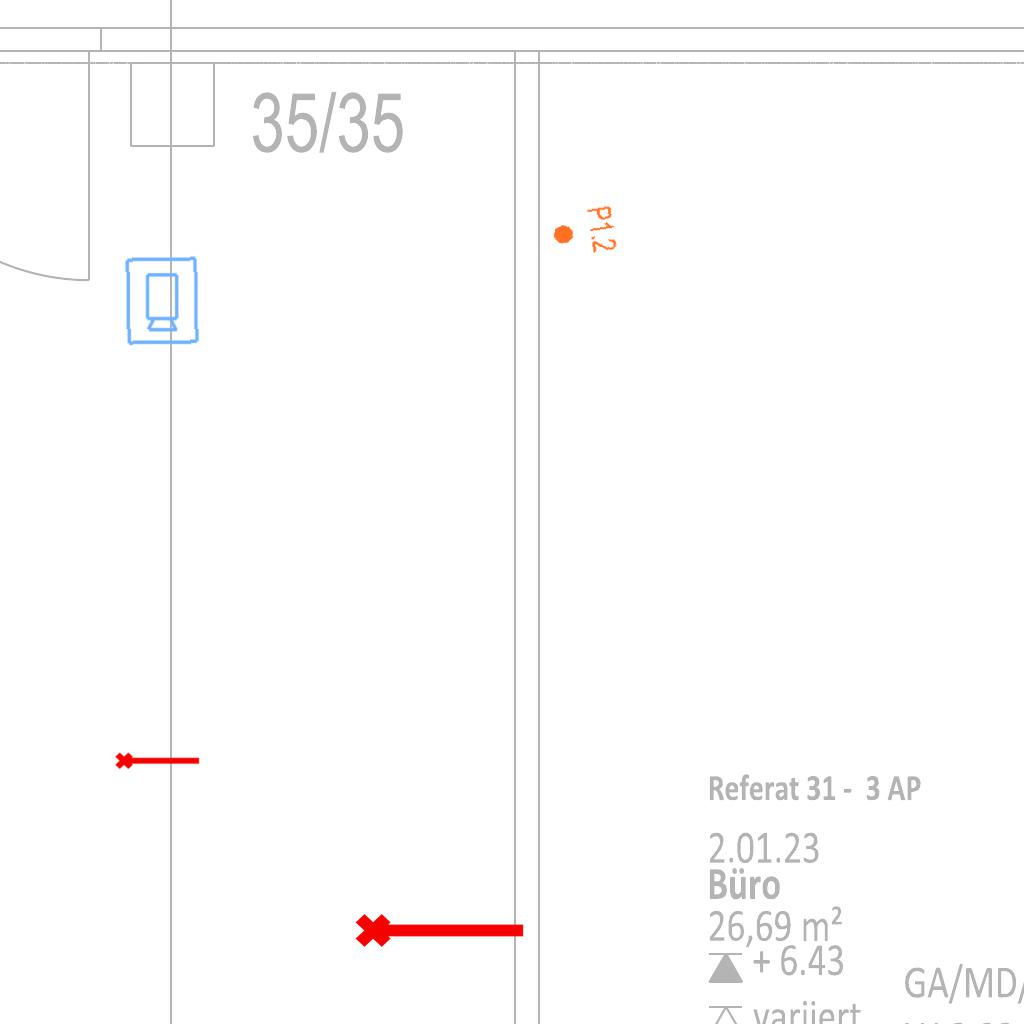ASR_Ansaugoeffnung: (353, 905, 529, 951), (114, 748, 202, 771)
Downlight_LED_Einbauleuchten_Flur: (548, 204, 620, 260)
KFO_Kamera_mit_Festobjektiv: (122, 254, 201, 347)
